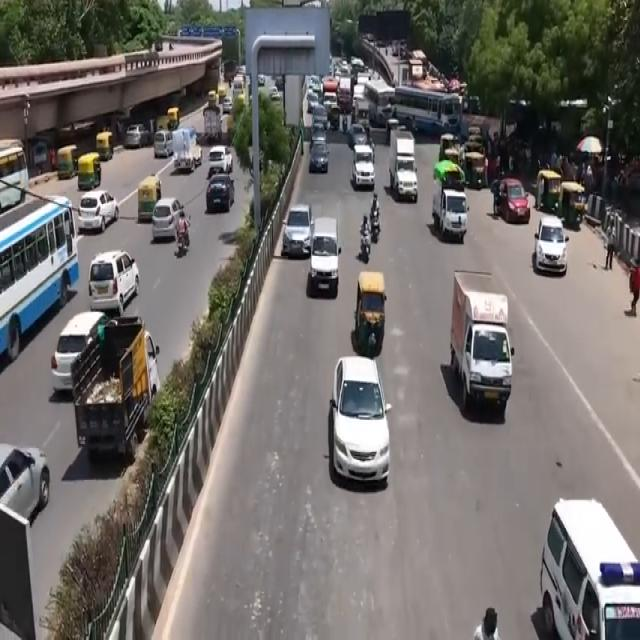BUS: (0, 200, 75, 374), (393, 82, 462, 133)
MOTORCYCLE: (360, 229, 372, 263)
TRUCK: (78, 316, 158, 461), (452, 274, 514, 421), (77, 154, 102, 192)
